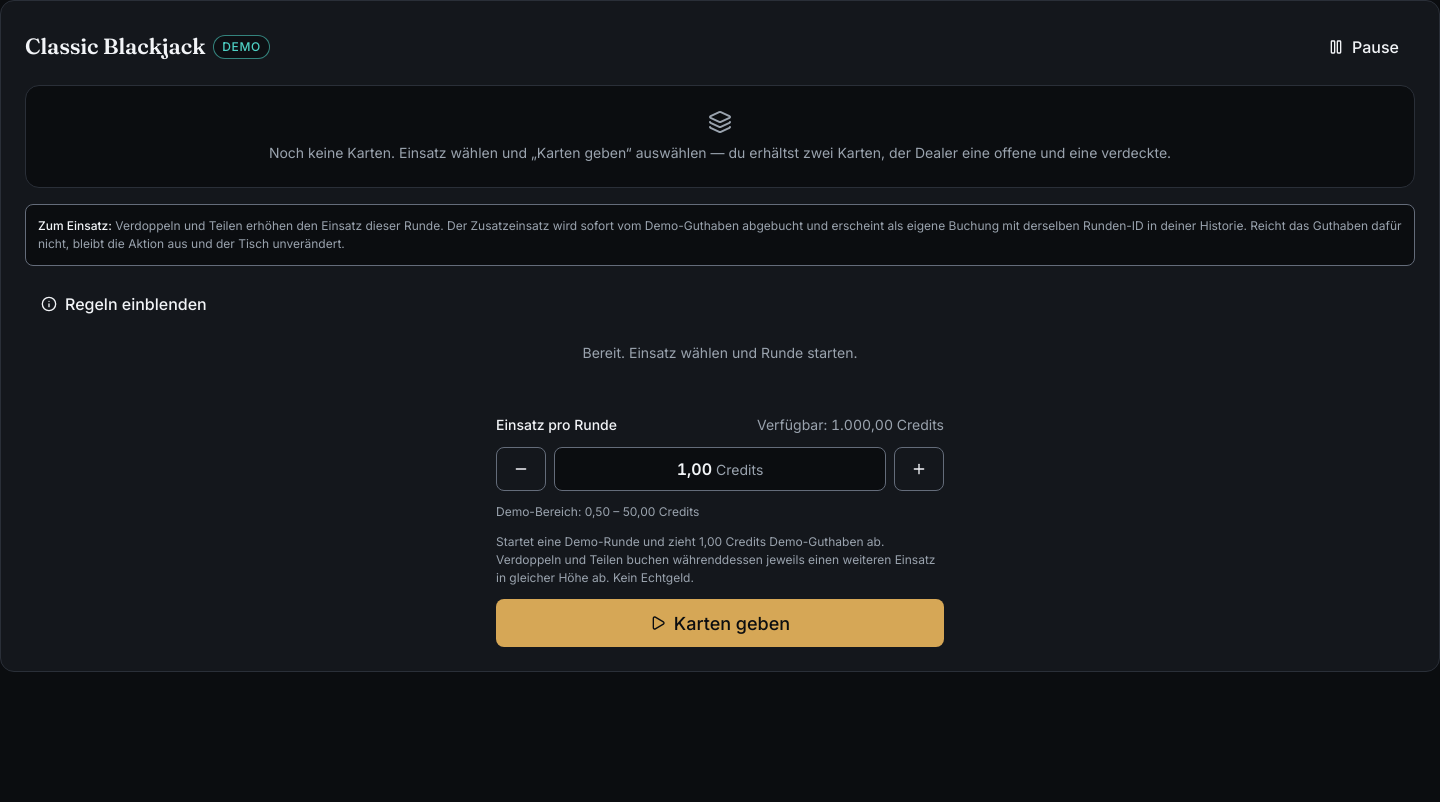
Test case: BlackjackGame — Oberfläche und Wallet-Verdrahtung › bucht beim Verdoppeln einen zweiten Einsatz vom Demo-Guthaben ab
Click the button "Karten geben" at (720, 623), box [496,599,944,647]
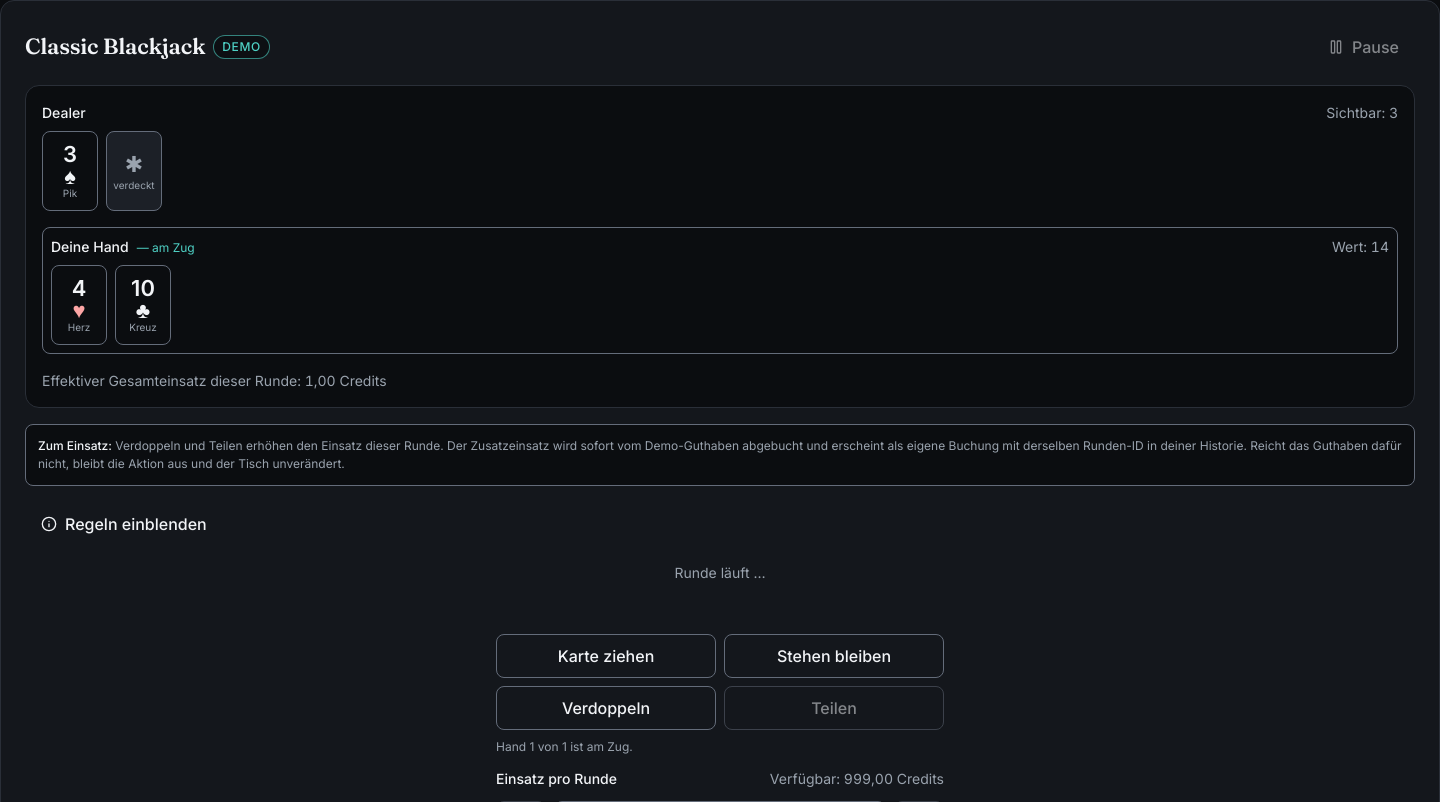
Expected: the text "Verfügbar: 999,00 Credits" is shown, [770,768,944,789]
Click the button "Verdoppeln" at (606, 708), box [496,686,716,730]
Wait 1500 ms
(page scrolled)
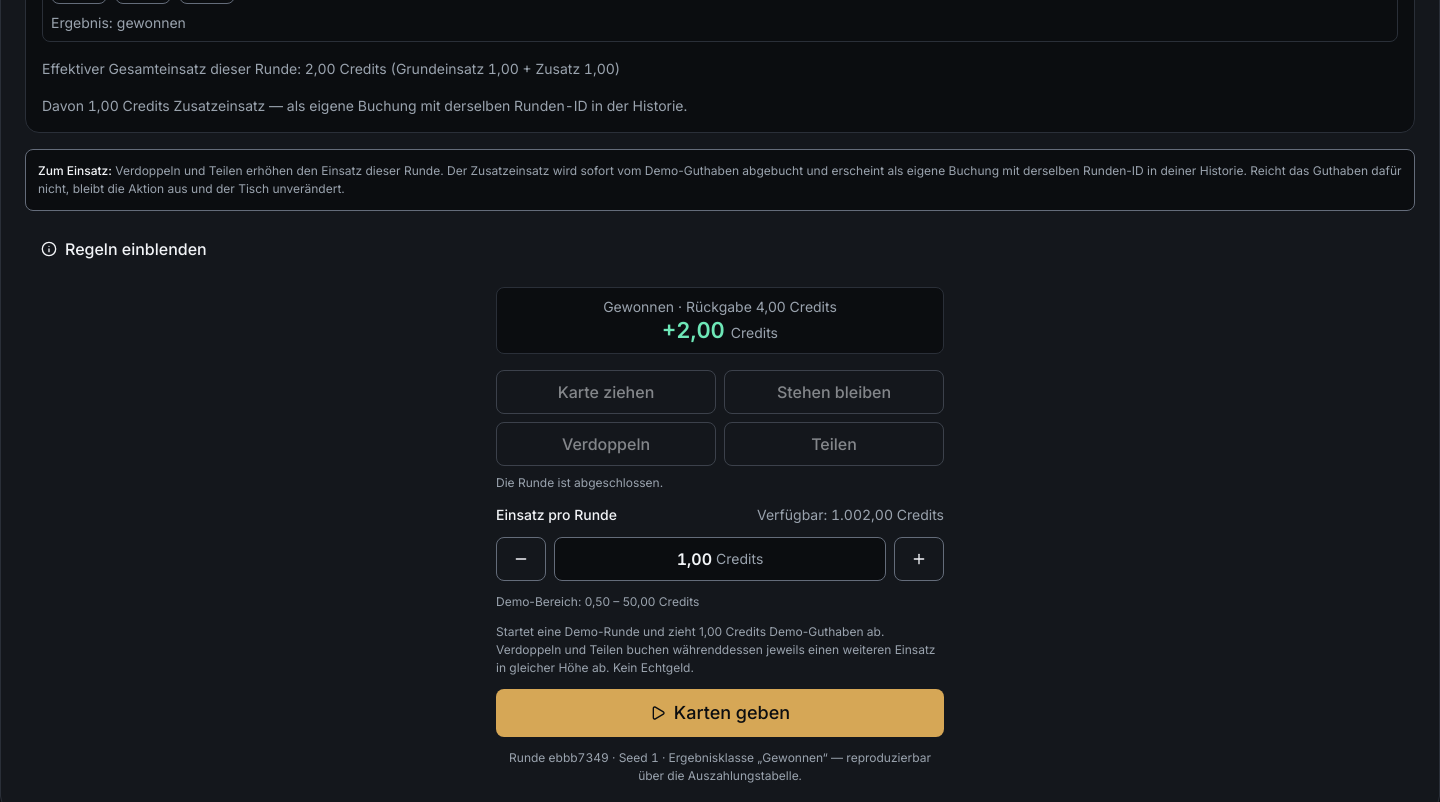
Expected: the text "Verfügbar: 998,00 Credits" is shown, [757,504,944,524]
Expected: the text "Effektiver Gesamteinsatz dieser Runde: 2,00 Credits" is shown, [42,60,620,77]
Expected: the button "Karten geben" is enabled, [496,688,944,736]
